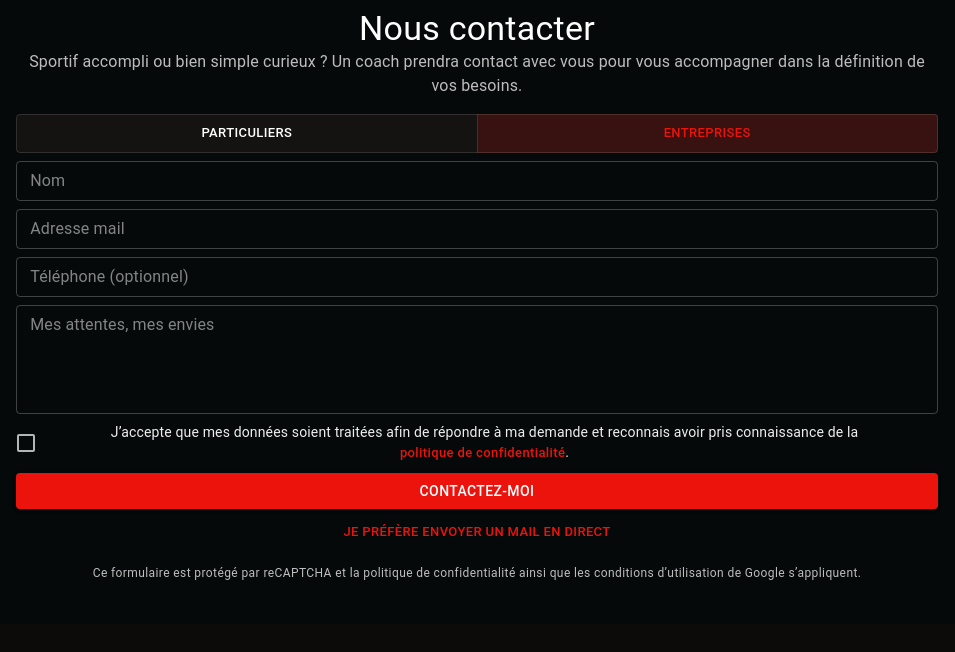
Test: Contact form › bloque un email invalide avant d'envoyer
The width and height of the screenshot is (955, 652).
Type "oops" into the field with placeholder "Adresse mail" at (477, 229), box [16,209,938,249]
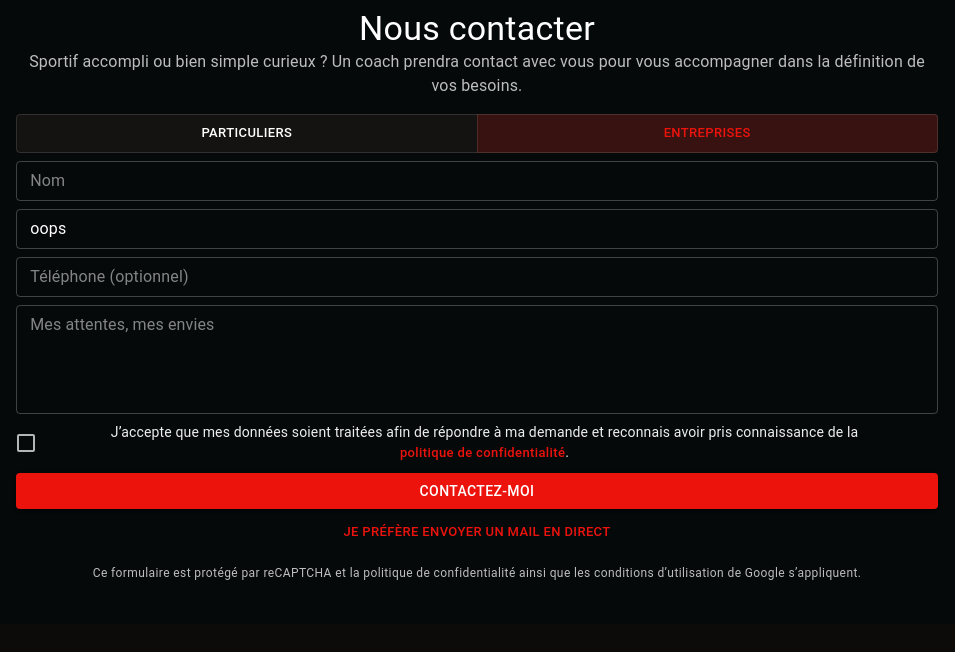
Type "Message valide" into the text box with placeholder "Mes attentes, mes envies" at (477, 359), box [30,313,924,405]
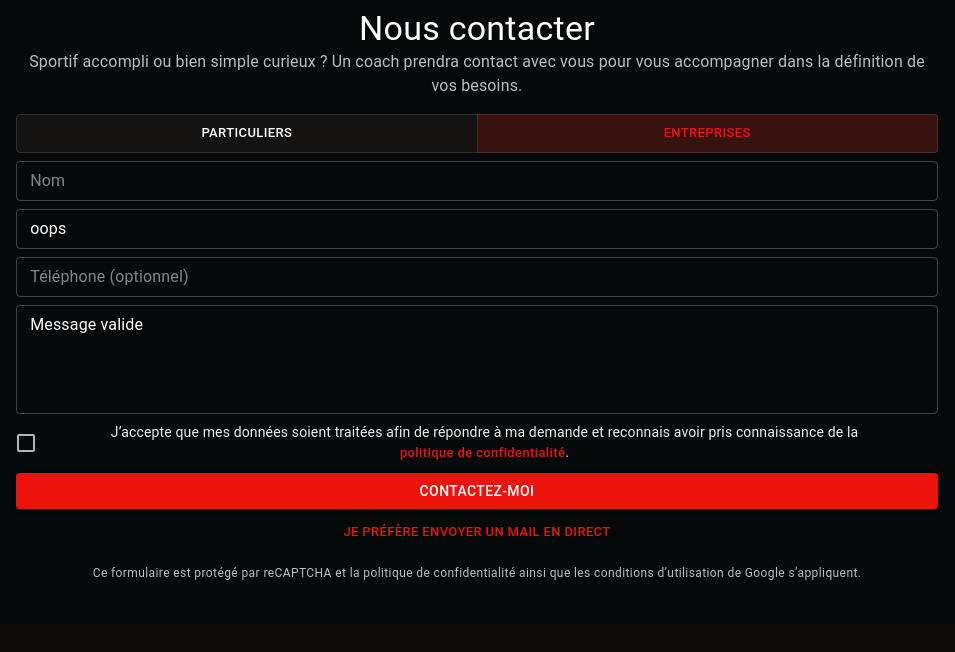
Click the button "CONTACTEZ-MOI" at (477, 491), box [16,472,938,509]
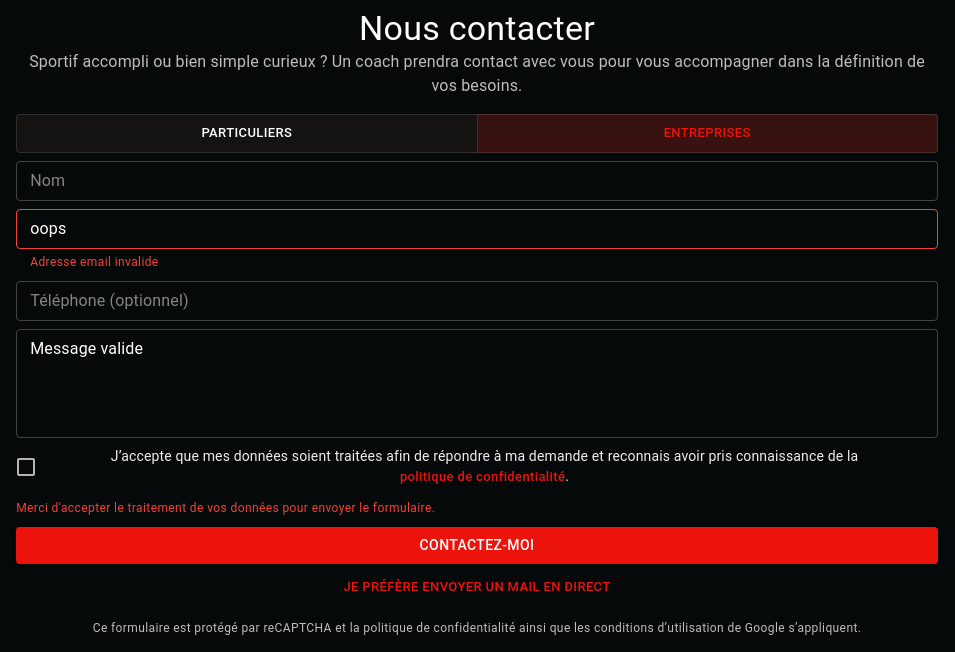
Check: the text "Adresse email invalide" is shown, box [30,255,159,269]
